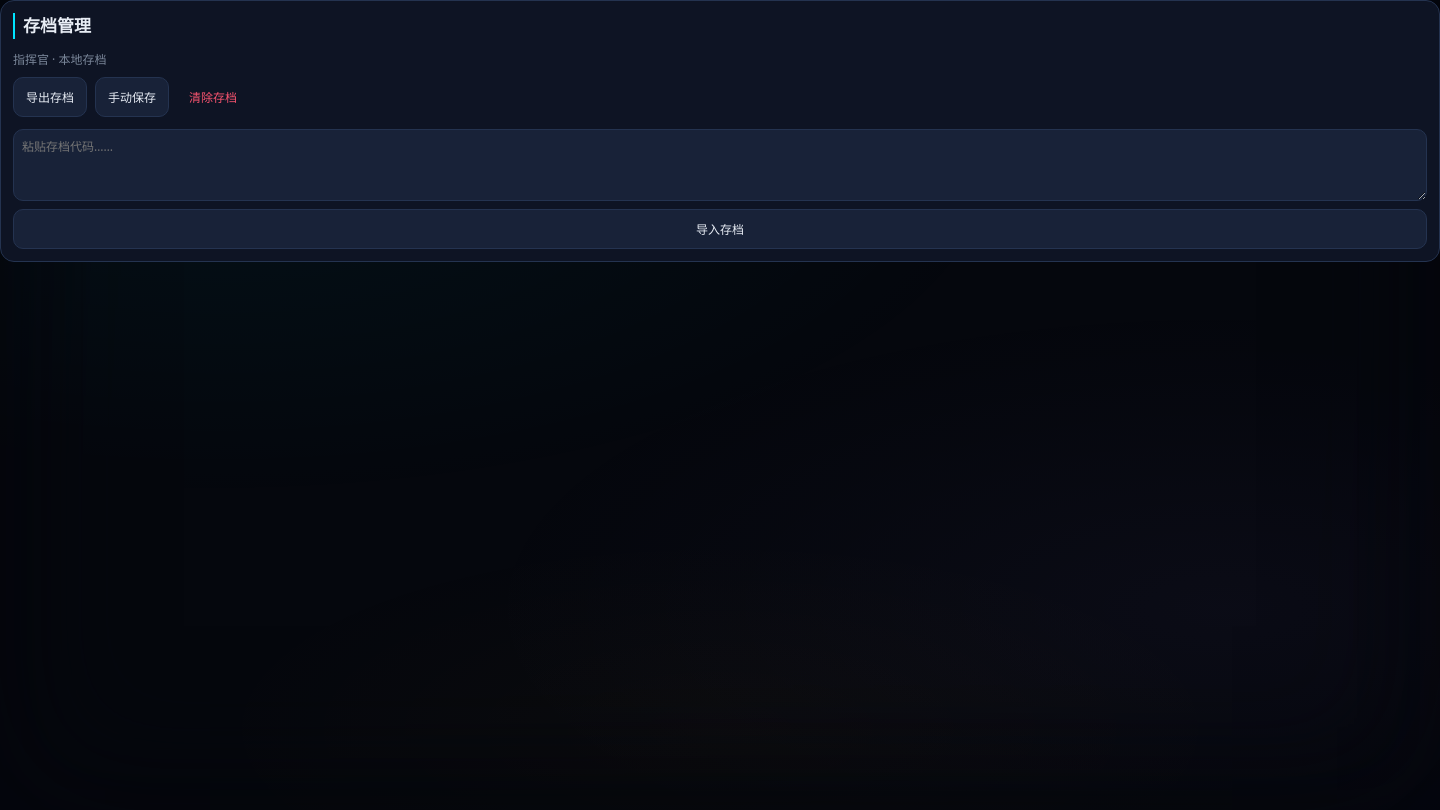
Test case: SavePanel 存档管理 › 导出回退：剪贴板不可用时仍显示导出码并提示手动复制
Click the button "导出存档" at (50,96), box [13,76,87,116]
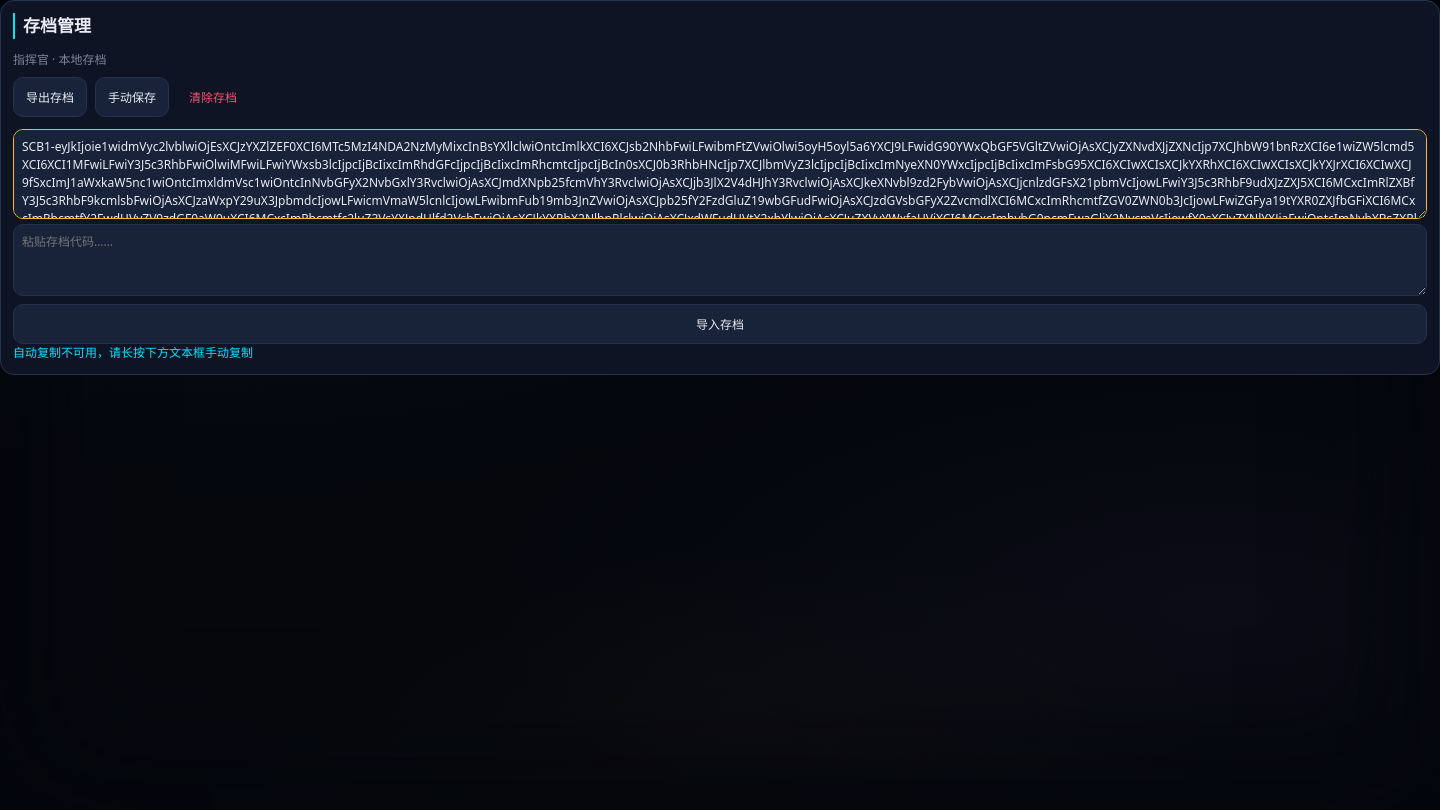
Expected: the text box named "导出存档码" is shown, [13,128,1427,218]
Expected: the text with class "import-msg" reads "自动复制不可用，请长按下方文本框手动复制", [13,344,253,360]
